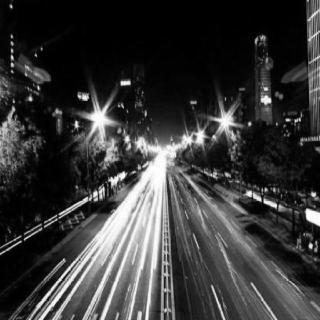other: (216, 106, 233, 138), (93, 109, 110, 141)
